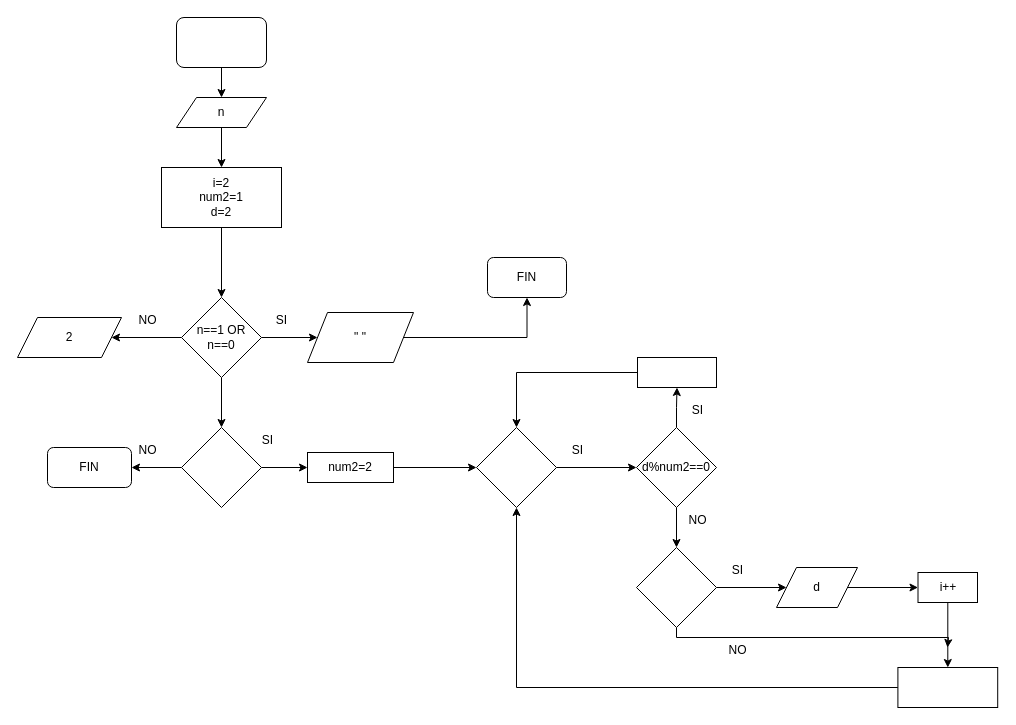
This 1016x725 diagram has some shape labels left out. The shapes that lost their labels are listed below. From the top down, each one's centre as x and y in pixels, then its label:
At pixel 221 42: "INICIO".
At pixel 676 372: "d++".
At pixel 221 467: "n>=i".
At pixel 516 467: "d>num2".
At pixel 676 587: "d==num2+1".
At pixel 947 687: "num2++".
